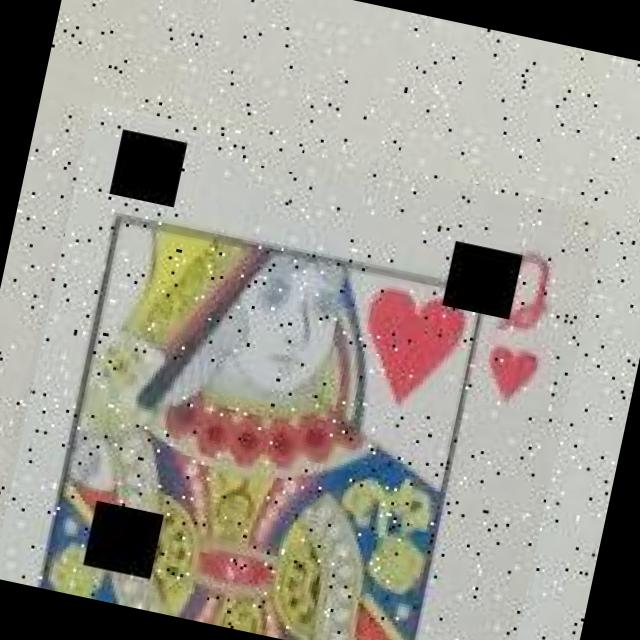Queen of hearts: (0, 102, 607, 640)
